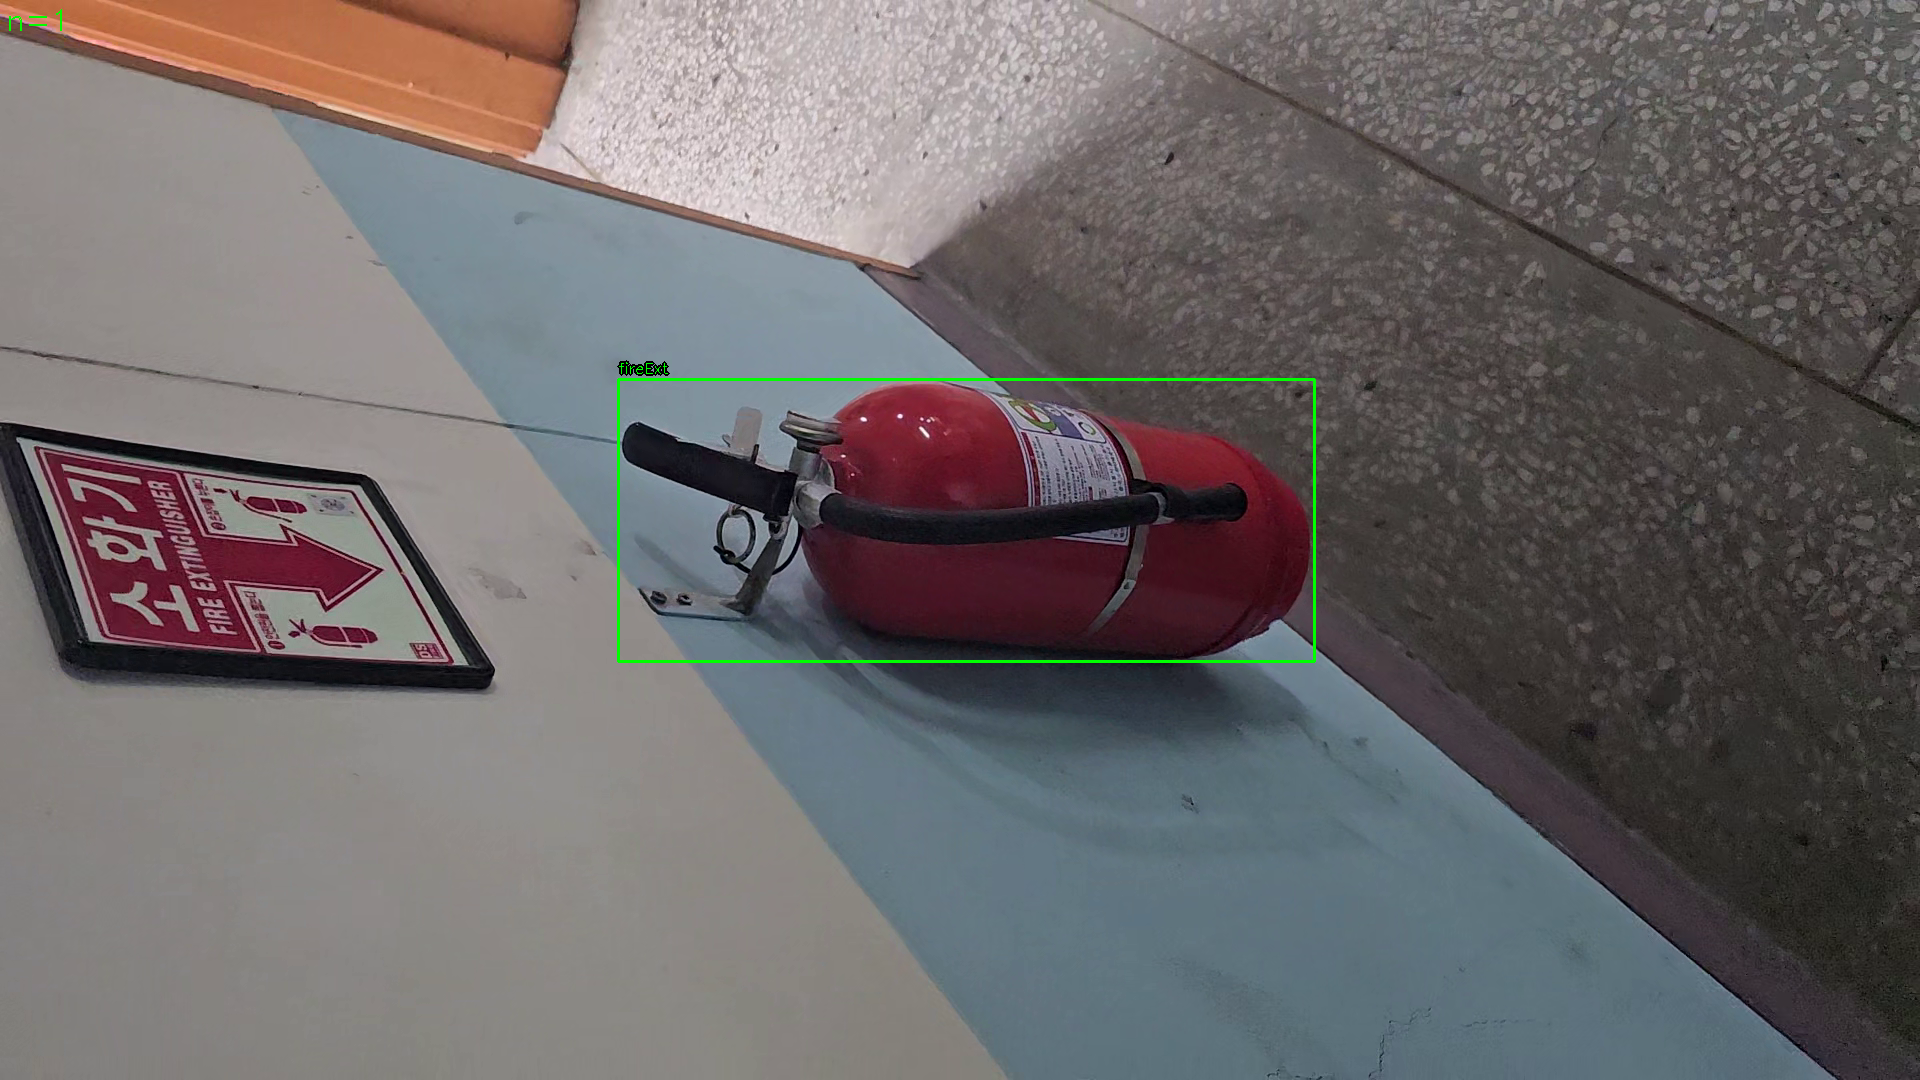lane: (618, 378, 1315, 662)
